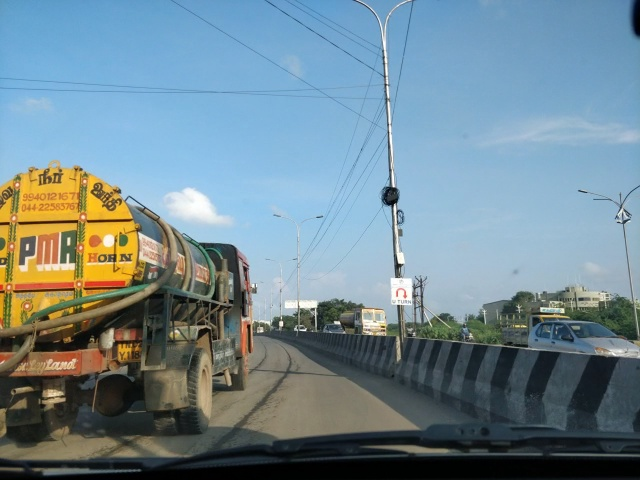car: (527, 318, 637, 357)
motorbike: (455, 319, 474, 343)
truck: (2, 166, 257, 440), (337, 308, 385, 334)
